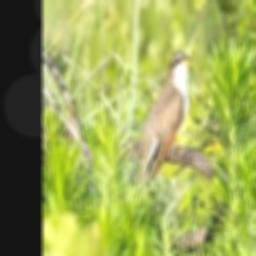Cuckoo: (137, 50, 193, 191)
